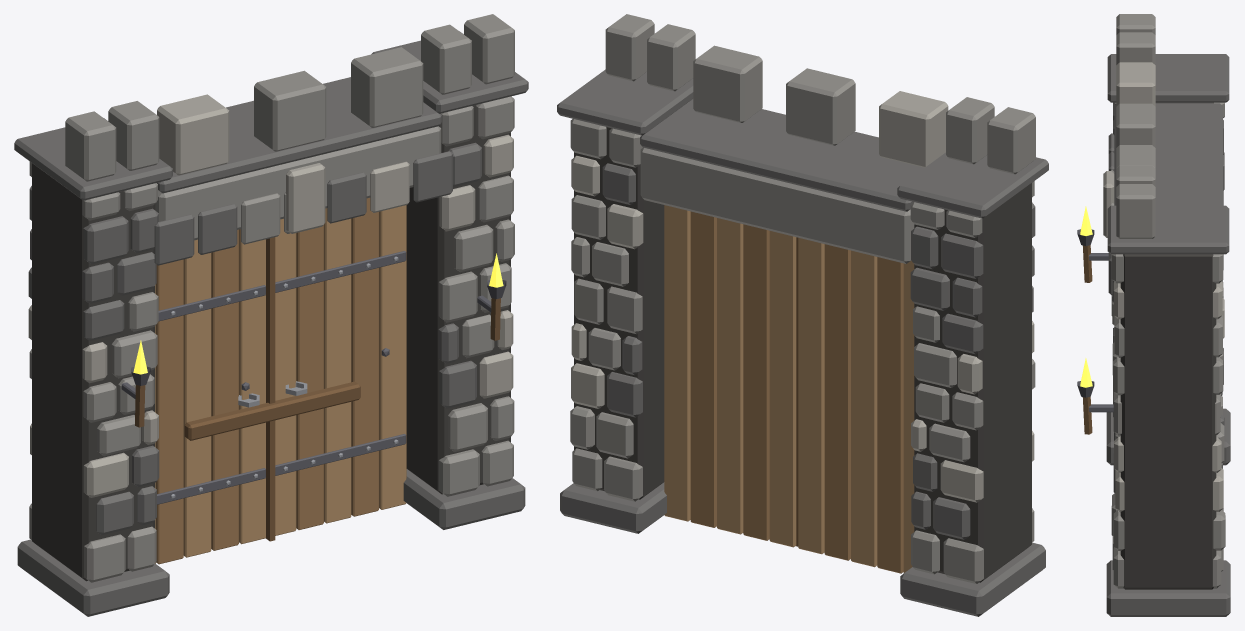
Rendered from gate_2.glb.
3 views of the same model, side by side, from view 1: azimuth 30°, elevation 25°; view 2: azimuth 150°, elevation 25°; view 3: azimuth 270°, elevation 25° (orthographic). The views are drawn at different scales.
Visible parts, largest first — view 1: Gate; view 2: Gate; view 3: Gate.
Boxes of the visible parts, x1,y1,x2,y2 form: Gate: (14, 14, 528, 616); Gate: (557, 14, 1048, 616); Gate: (1077, 14, 1230, 616).
Size of the model in its own units: 4.16 by 4.26 by 1.41.
